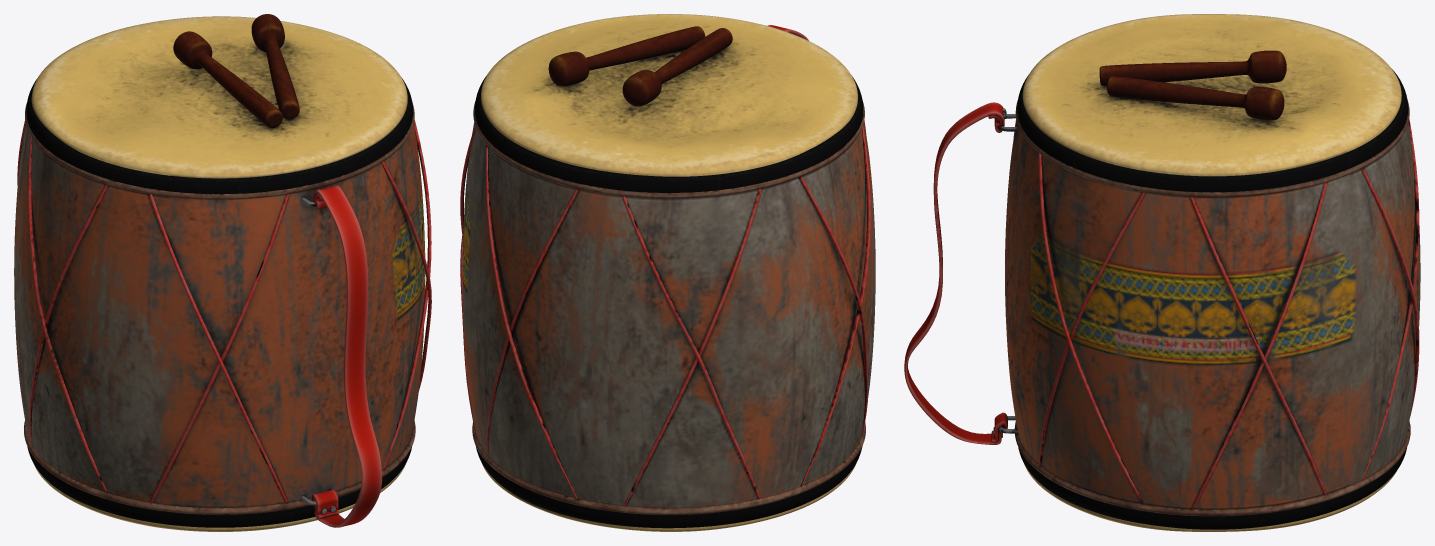
Rendered from sumatra_tambua.glb.
3 renders of one model, left to right at view 1: azimuth 30°, elevation 25°; view 2: azimuth 150°, elevation 25°; view 3: azimuth 270°, elevation 25°, orthographic.
Parts seen in each view (by area): view 1: Object_2, Object_11, Object_5, Object_4, Object_3, Object_13, Object_7, Object_6, Object_14, Object_12; view 2: Object_2, Object_11, Object_5, Object_3, Object_14, Object_7, Object_13, Object_6, Object_12; view 3: Object_2, Object_11, Object_5, Object_3, Object_4, Object_14, Object_13, Object_7, Object_6, Object_12.
Boxes of the visible parts, x1=… form: Object_2: x1=14, y1=124, x2=425, y2=507; Object_11: x1=31, y1=16, x2=407, y2=178; Object_5: x1=26, y1=77, x2=413, y2=527; Object_4: x1=311, y1=185, x2=382, y2=527; Object_3: x1=17, y1=118, x2=431, y2=503; Object_13: x1=173, y1=31, x2=282, y2=128; Object_7: x1=24, y1=420, x2=415, y2=514; Object_6: x1=25, y1=102, x2=414, y2=199; Object_14: x1=251, y1=14, x2=299, y2=119; Object_12: x1=34, y1=463, x2=406, y2=531; Object_2: x1=462, y1=122, x2=875, y2=508; Object_11: x1=481, y1=14, x2=857, y2=176; Object_5: x1=475, y1=75, x2=863, y2=528; Object_3: x1=460, y1=120, x2=870, y2=506; Object_14: x1=548, y1=26, x2=705, y2=86; Object_7: x1=472, y1=422, x2=865, y2=514; Object_13: x1=622, y1=28, x2=732, y2=106; Object_6: x1=473, y1=101, x2=864, y2=198; Object_12: x1=482, y1=463, x2=856, y2=531; Object_2: x1=1005, y1=122, x2=1420, y2=509; Object_11: x1=1022, y1=14, x2=1401, y2=176; Object_5: x1=1017, y1=69, x2=1408, y2=529; Object_3: x1=1013, y1=118, x2=1419, y2=509; Object_4: x1=904, y1=102, x2=1007, y2=444; Object_14: x1=1107, y1=76, x2=1284, y2=120; Object_13: x1=1099, y1=50, x2=1286, y2=85; Object_7: x1=1014, y1=421, x2=1410, y2=516; Object_6: x1=1015, y1=99, x2=1409, y2=197; Object_12: x1=1024, y1=464, x2=1396, y2=531.
Size of the model in its own units: 3.62 by 3.82 by 4.34.
Materials: 8 (8 with a texture image).
